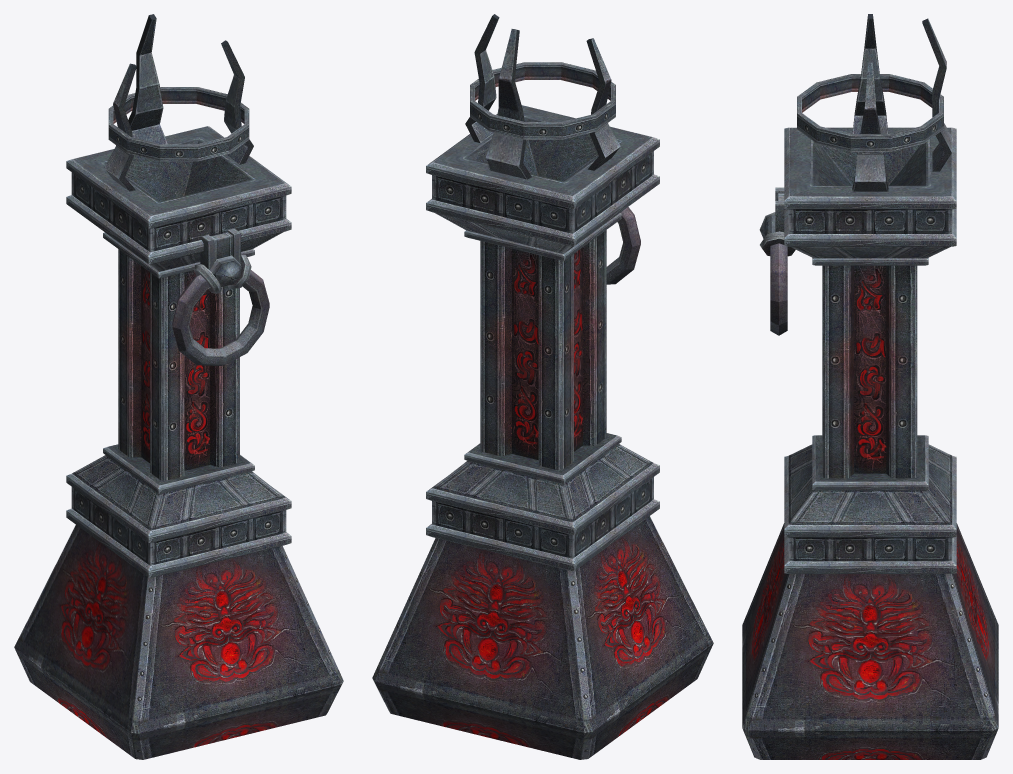
Rendered from steel_pillar.fbx.
3 renders of one model, left to right at view 1: azimuth 30°, elevation 25°; view 2: azimuth 150°, elevation 25°; view 3: azimuth 270°, elevation 25°, orthographic. The views are drawn at different scales.
Visible parts, largest first — view 1: steel_pillar; view 2: steel_pillar; view 3: steel_pillar.
Boxes of the visible parts, x1,y1,x2,y2 form: steel_pillar: (14, 14, 343, 759); steel_pillar: (372, 14, 713, 759); steel_pillar: (742, 14, 998, 759).
Bounding box in the file's own units: 3.51 × 10.43 × 3.51.
